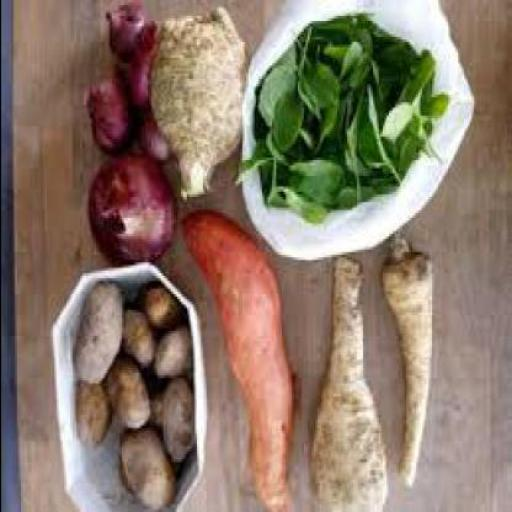biodegradable: (239, 11, 445, 220), (174, 206, 292, 510), (307, 254, 383, 510), (144, 5, 238, 197), (378, 234, 432, 480), (86, 152, 172, 263), (67, 275, 121, 383), (115, 431, 172, 507), (85, 66, 127, 149), (150, 376, 190, 462), (102, 351, 144, 423), (292, 42, 328, 120), (289, 144, 344, 194), (120, 18, 152, 100), (378, 99, 417, 166), (254, 57, 290, 126), (340, 105, 368, 189), (69, 380, 103, 447), (367, 68, 403, 131), (274, 186, 330, 226), (314, 39, 368, 79), (118, 309, 156, 365), (313, 94, 342, 166), (270, 97, 305, 153), (368, 37, 417, 76), (136, 284, 178, 328), (128, 106, 166, 154), (103, 6, 135, 57), (403, 56, 435, 104), (315, 16, 371, 42), (338, 37, 362, 89), (235, 139, 265, 179), (387, 124, 412, 163), (259, 153, 276, 204), (417, 102, 441, 121), (146, 386, 158, 423)
